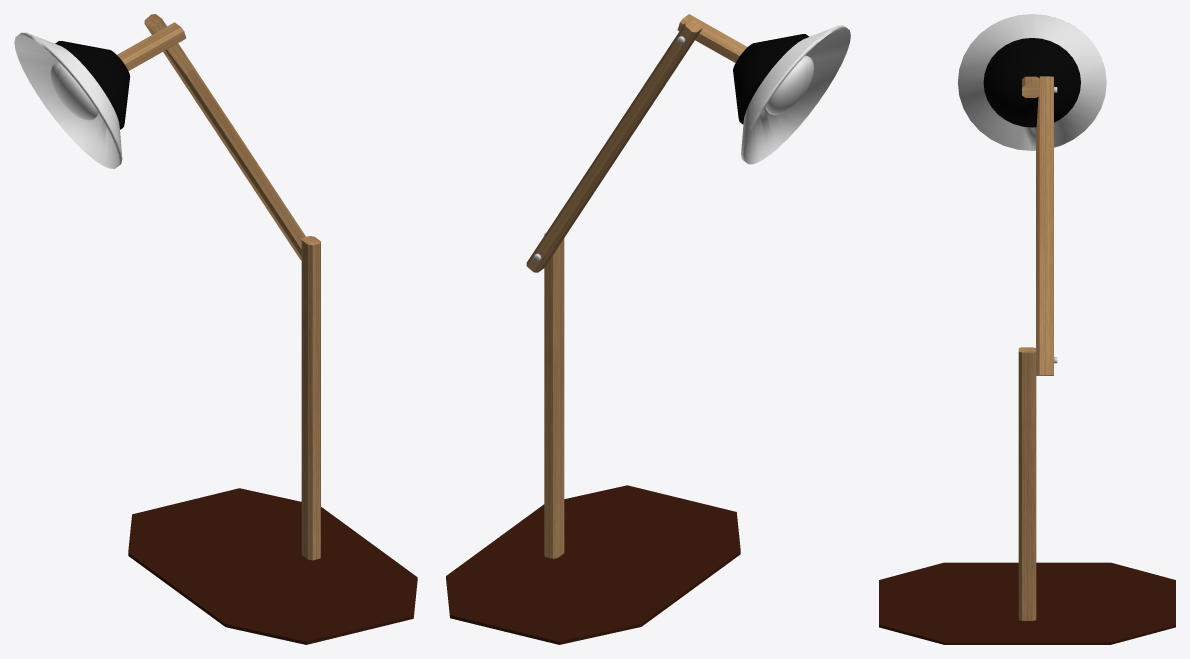
Rendered from yofukasi_light.fbx.
The picture shows the model from 3 angles, left to right: view 1: azimuth 30°, elevation 25°; view 2: azimuth 150°, elevation 25°; view 3: azimuth 270°, elevation 25°; orthographic projection. The views are drawn at different scales.
Parts seen in each view (by area): view 1: Cube.004; view 2: Cube.004; view 3: Cube.004.
Part boxes in pixels (x1,y1,x2,y2): Cube.004: [14, 14, 417, 644]; Cube.004: [446, 14, 850, 644]; Cube.004: [879, 14, 1175, 644].
Size of the model in its own units: 135 by 229 by 124.
Materials: 6 (2 with a texture image).
